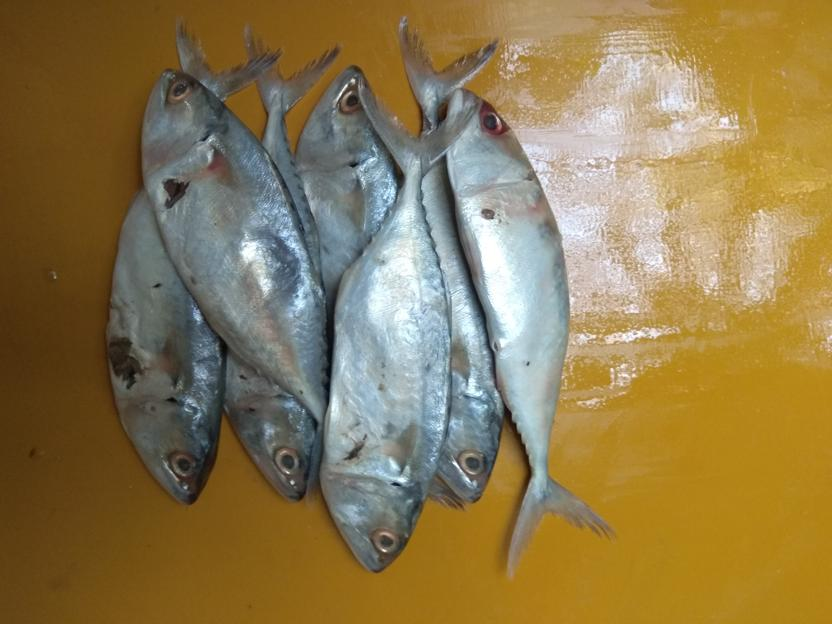Fish head: (317, 468, 426, 575), (121, 397, 222, 507), (225, 391, 319, 506), (293, 64, 384, 172), (444, 88, 533, 196), (139, 67, 226, 177), (432, 393, 507, 506)
Fish tail: (353, 73, 484, 179), (506, 475, 617, 582), (172, 17, 282, 102), (397, 15, 501, 104), (242, 26, 345, 112)
